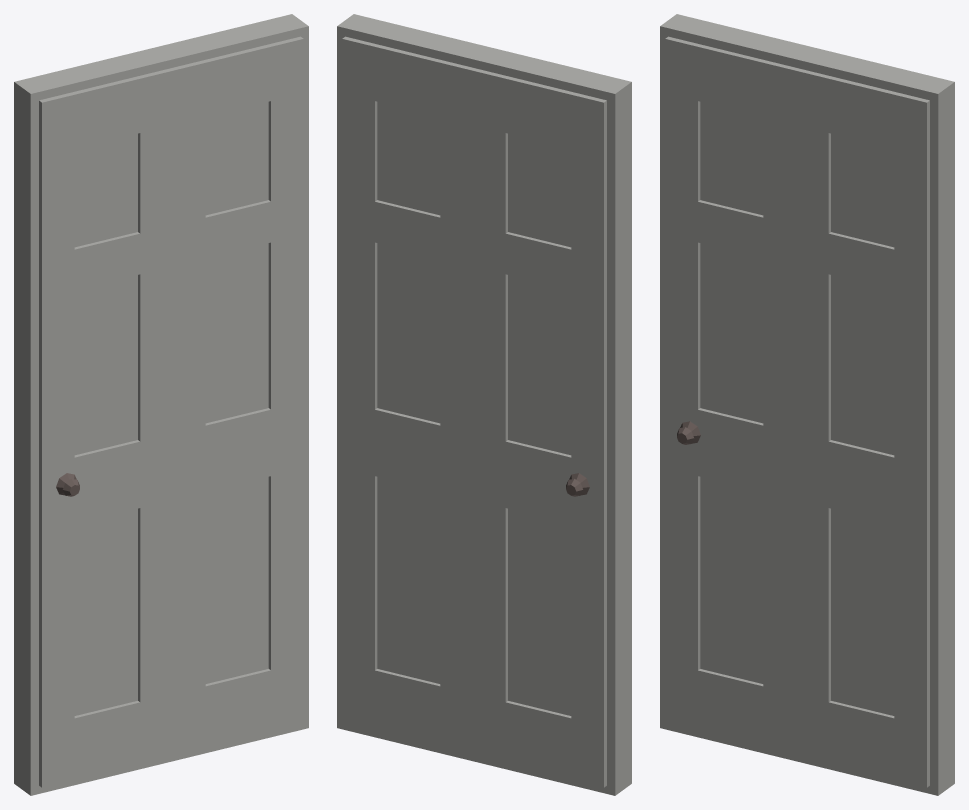
Rendered from home_door_1.fbx.
The picture shows the model from 3 angles, left to right: view 1: azimuth 30°, elevation 25°; view 2: azimuth 150°, elevation 25°; view 3: azimuth 330°, elevation 25°; orthographic projection.
Parts seen in each view (by area): view 1: home_door_1_LOD0; view 2: home_door_1_LOD0; view 3: home_door_1_LOD0.
Part boxes in pixels (x1,y1,x2,y2): home_door_1_LOD0: (14, 14, 308, 795); home_door_1_LOD0: (337, 14, 631, 795); home_door_1_LOD0: (660, 14, 954, 795).
Size of what is drawn, in the model's own units: 0.8704 by 2.1 by 0.2107.
